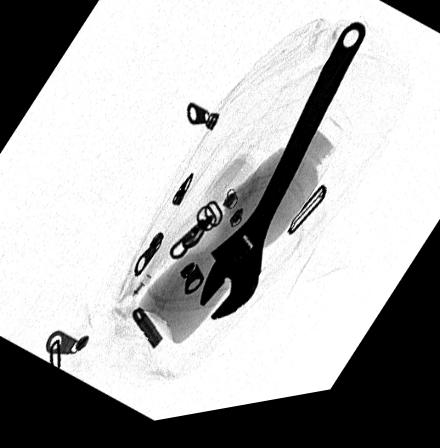Wrench: (199, 34, 365, 327)
